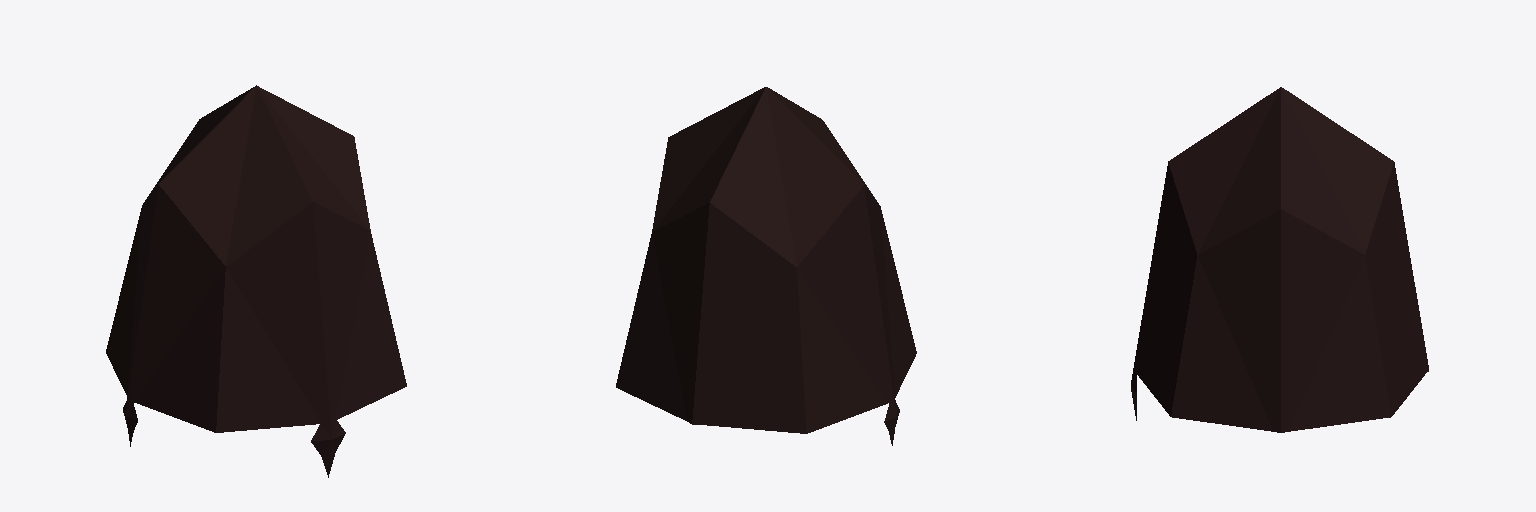
The model's file is montanha.obj.
3 views of the same model, side by side, from view 1: azimuth 30°, elevation 25°; view 2: azimuth 150°, elevation 25°; view 3: azimuth 270°, elevation 25° (orthographic).
Visible parts, largest first — view 1: Mesh_Cube_Cube_Material; view 2: Mesh_Cube_Cube_Material; view 3: Mesh_Cube_Cube_Material.
Part boxes in pixels (x1,y1,x2,y2): Mesh_Cube_Cube_Material: (106, 85, 406, 477); Mesh_Cube_Cube_Material: (616, 87, 916, 445); Mesh_Cube_Cube_Material: (1131, 87, 1428, 432).
Size of the model in its own units: 1.98 by 2.49 by 1.98.